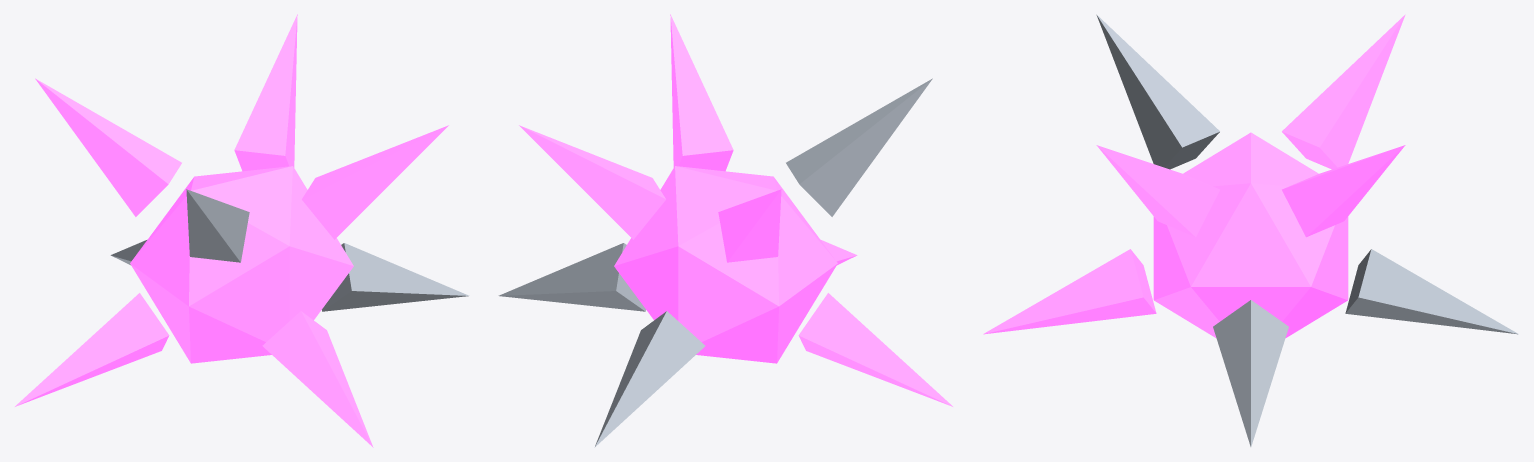
The model's file is vfx_impact_arc.glb.
3 renders of one model, left to right at view 1: azimuth 30°, elevation 25°; view 2: azimuth 150°, elevation 25°; view 3: azimuth 270°, elevation 25°, orthographic. The views are drawn at different scales.
Visible parts, largest first — view 1: vfx_impact_arc_core, vfx_impact_arc_shard5, vfx_impact_arc_shard4, vfx_impact_arc_shard1, vfx_impact_arc_shard7, vfx_impact_arc_shard2, vfx_impact_arc_shard0, vfx_impact_arc_shard3; view 2: vfx_impact_arc_core, vfx_impact_arc_shard3, vfx_impact_arc_shard4, vfx_impact_arc_shard7, vfx_impact_arc_shard1, vfx_impact_arc_shard6, vfx_impact_arc_shard0, vfx_impact_arc_shard5; view 3: vfx_impact_arc_core, vfx_impact_arc_shard3, vfx_impact_arc_shard5, vfx_impact_arc_shard2, vfx_impact_arc_shard6, vfx_impact_arc_shard0, vfx_impact_arc_shard1, vfx_impact_arc_shard7.
Boxes of the visible parts, x1,y1,x2,y2 form: vfx_impact_arc_core: [130, 166, 353, 363]; vfx_impact_arc_shard5: [35, 78, 181, 216]; vfx_impact_arc_shard4: [15, 293, 169, 406]; vfx_impact_arc_shard1: [302, 125, 448, 239]; vfx_impact_arc_shard7: [234, 14, 297, 171]; vfx_impact_arc_shard2: [262, 311, 373, 447]; vfx_impact_arc_shard0: [322, 243, 469, 311]; vfx_impact_arc_shard3: [186, 189, 249, 262]; vfx_impact_arc_core: [614, 166, 837, 363]; vfx_impact_arc_shard3: [786, 78, 932, 216]; vfx_impact_arc_shard4: [798, 293, 952, 406]; vfx_impact_arc_shard7: [519, 125, 665, 239]; vfx_impact_arc_shard1: [670, 14, 733, 171]; vfx_impact_arc_shard6: [594, 311, 705, 447]; vfx_impact_arc_shard0: [498, 243, 645, 311]; vfx_impact_arc_shard5: [718, 189, 781, 262]; vfx_impact_arc_core: [1153, 132, 1348, 337]; vfx_impact_arc_shard3: [1096, 14, 1219, 169]; vfx_impact_arc_shard5: [1282, 14, 1405, 169]; vfx_impact_arc_shard2: [983, 249, 1156, 334]; vfx_impact_arc_shard6: [1345, 249, 1518, 334]; vfx_impact_arc_shard0: [1213, 300, 1288, 446]; vfx_impact_arc_shard1: [1096, 145, 1219, 237]; vfx_impact_arc_shard7: [1282, 145, 1405, 237].
Size of the model in its own units: 0.5638 by 0.2954 by 0.5638.
